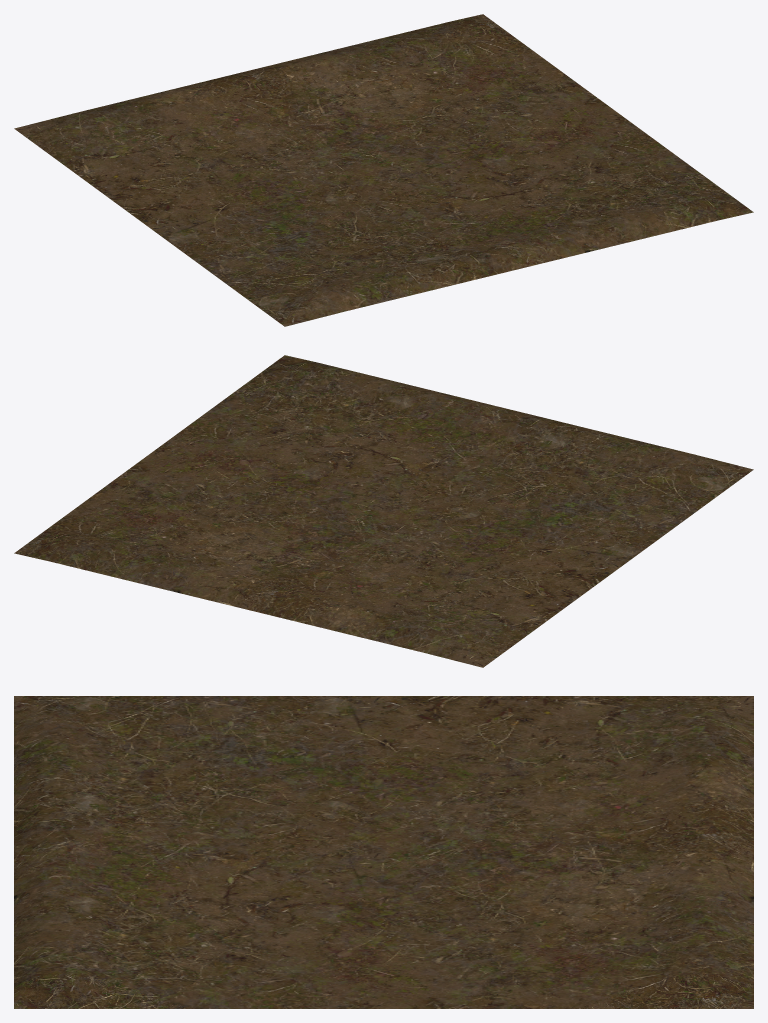
Rendered from gardenfloor.FBX.
3 renders of one model, top to bottom at view 1: azimuth 30°, elevation 25°; view 2: azimuth 150°, elevation 25°; view 3: azimuth 270°, elevation 25°, orthographic. The views are drawn at different scales.
Visible parts, largest first — view 1: SM_ground_Road_streight_250x250cm_1_a; view 2: SM_ground_Road_streight_250x250cm_1_a; view 3: SM_ground_Road_streight_250x250cm_1_a.
Boxes of the visible parts, x1,y1,x2,y2 form: SM_ground_Road_streight_250x250cm_1_a: (14, 14, 753, 326); SM_ground_Road_streight_250x250cm_1_a: (14, 355, 753, 667); SM_ground_Road_streight_250x250cm_1_a: (14, 696, 753, 1008).
Size of the model in its own units: 500 by 8.67 by 500.
1 material, 1 textured.
